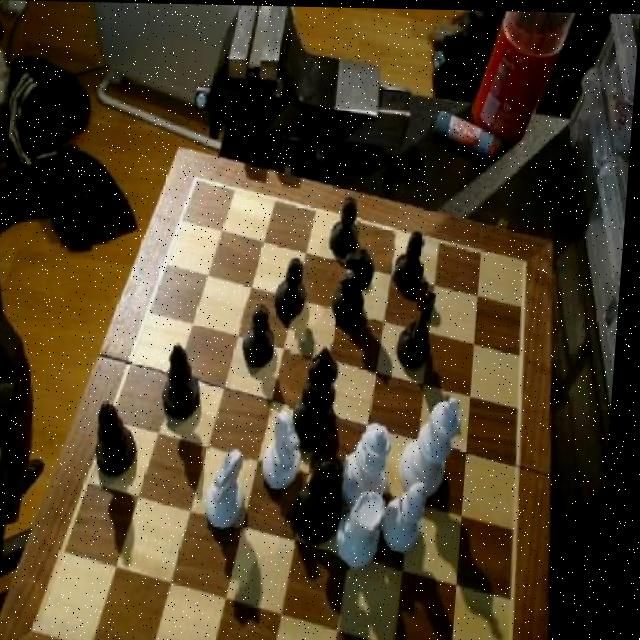bishop: (94, 397, 146, 484), (164, 339, 210, 424)
black-bishop: (292, 341, 350, 456)
black-king: (331, 246, 382, 326), (397, 287, 445, 368)
black-knight: (242, 302, 283, 371), (394, 227, 435, 295), (328, 194, 366, 259), (276, 254, 313, 319)
black-pawn: (302, 453, 356, 545)
black-rook: (385, 477, 439, 556)
white-bishop: (401, 392, 470, 499)
white-king: (208, 444, 256, 530), (263, 410, 312, 494)
white-pawn: (344, 420, 400, 507)
white-queen: (341, 486, 397, 570)
